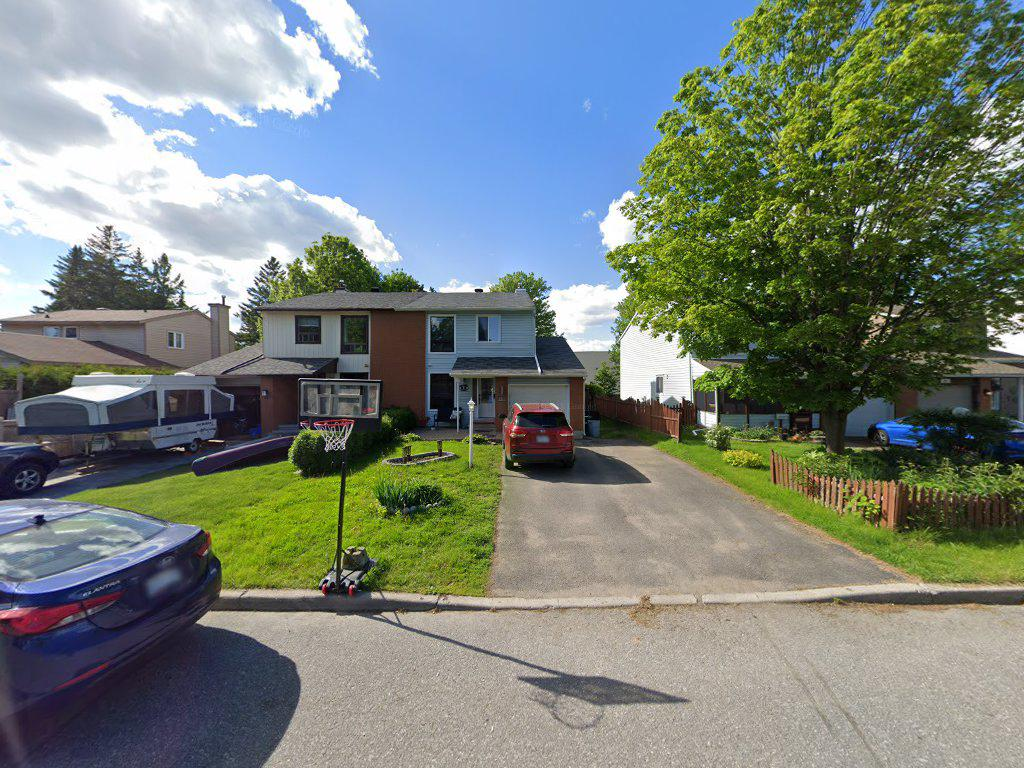trunk: (821, 404, 850, 462)
